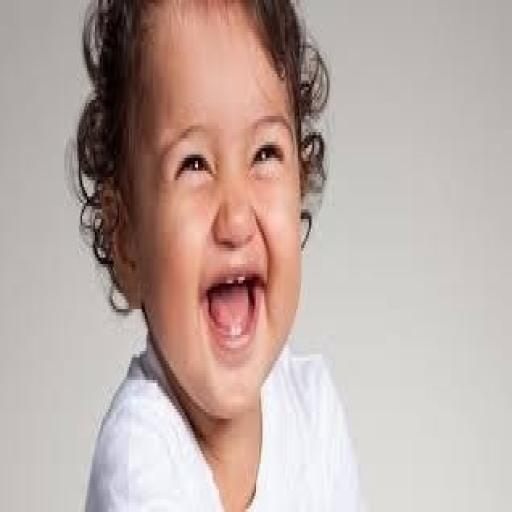laughing: (60, 4, 370, 502)
